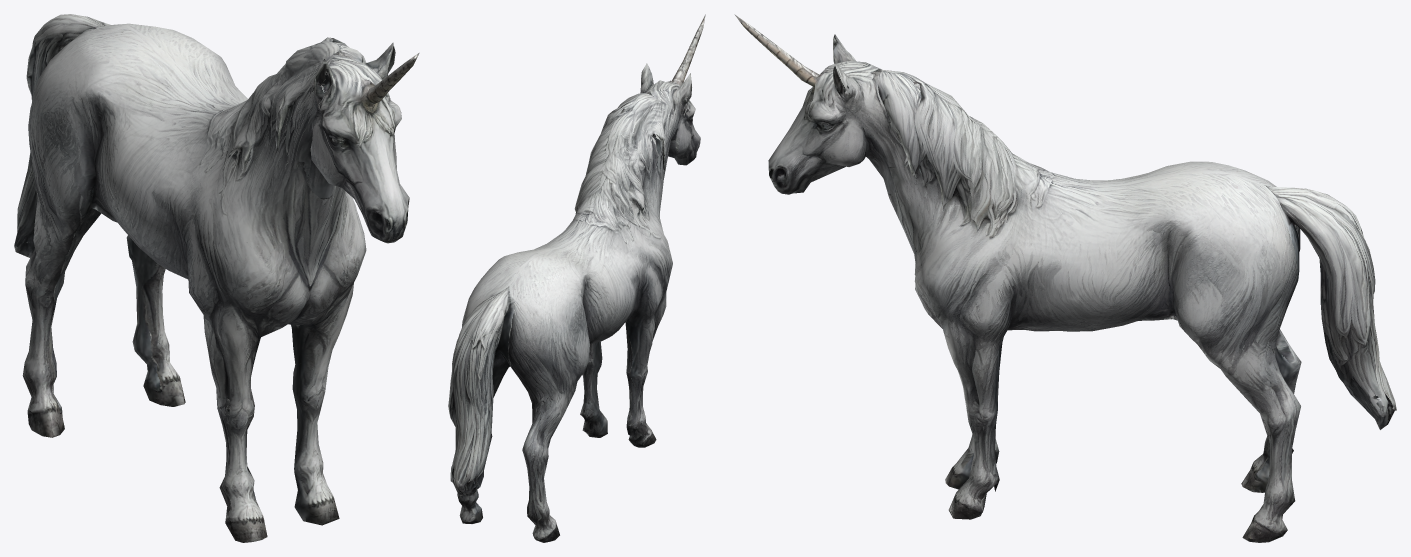
Rendered from Unicorn.glb.
3 renders of one model, left to right at view 1: azimuth 30°, elevation 25°; view 2: azimuth 150°, elevation 25°; view 3: azimuth 270°, elevation 25°, orthographic. The views are drawn at different scales.
Parts seen in each view (by area): view 1: texture_mapping; view 2: texture_mapping; view 3: texture_mapping.
Boxes of the visible parts, x1,y1,x2,y2 form: texture_mapping: (14,14,419,542); texture_mapping: (448,14,705,542); texture_mapping: (734,14,1396,542).
Bounding box in the file's own units: 0.2528 × 0.8284 × 0.9975.
1 material, 1 textured.
